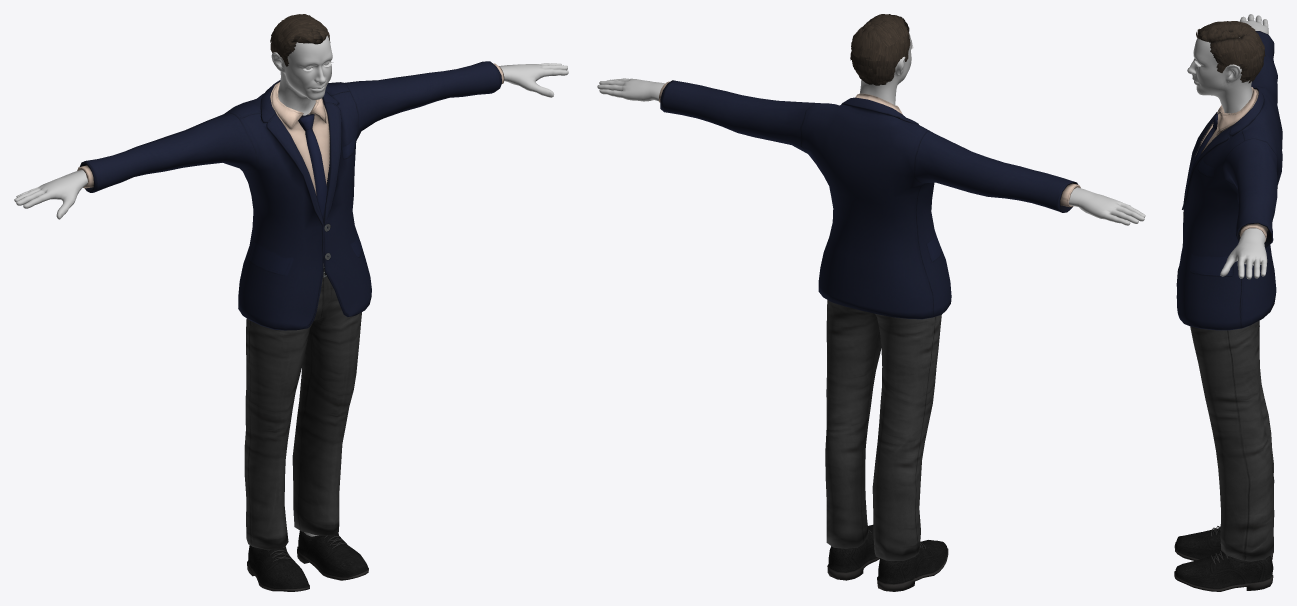
The model's file is jacob.obj.
3 renders of one model, left to right at view 1: azimuth 30°, elevation 25°; view 2: azimuth 150°, elevation 25°; view 3: azimuth 270°, elevation 25°, orthographic.
Parts seen in each view (by area): view 1: Tops, Bottoms, Body, Shoes, Hair; view 2: Tops, Bottoms, Shoes, Body, Hair; view 3: Tops, Bottoms, Body, Shoes, Hair.
Boxes of the visible parts, x1,y1,x2,y2 form: Tops: (77,61,504,330); Bottoms: (244,263,361,550); Body: (14,35,568,536); Shoes: (247,531,368,591); Hair: (270,14,330,66); Tops: (659,80,1080,319); Bottoms: (825,300,941,560); Shoes: (827,525,948,591); Body: (597,32,1145,225); Hair: (850,14,910,85); Tops: (1176,31,1282,330); Bottoms: (1190,320,1274,561); Body: (1187,14,1268,279); Shoes: (1174,526,1273,591); Hair: (1196,21,1265,83).
Size of the model in its own units: 187 by 180 by 32.28.
